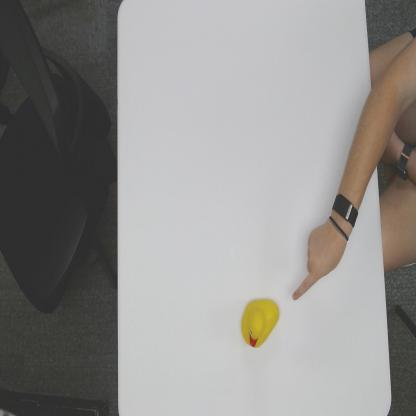Arm: (345, 93, 379, 202)
Duck: (239, 296, 282, 351)
Hand: (292, 219, 346, 303)
